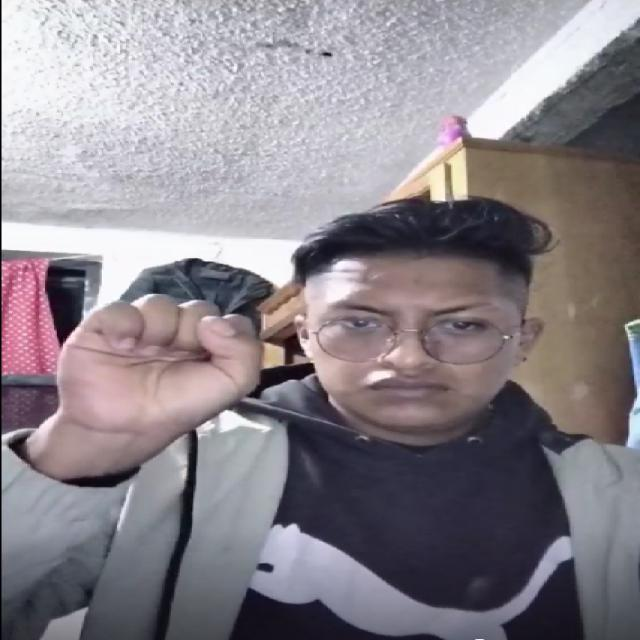S: (34, 286, 296, 447)
